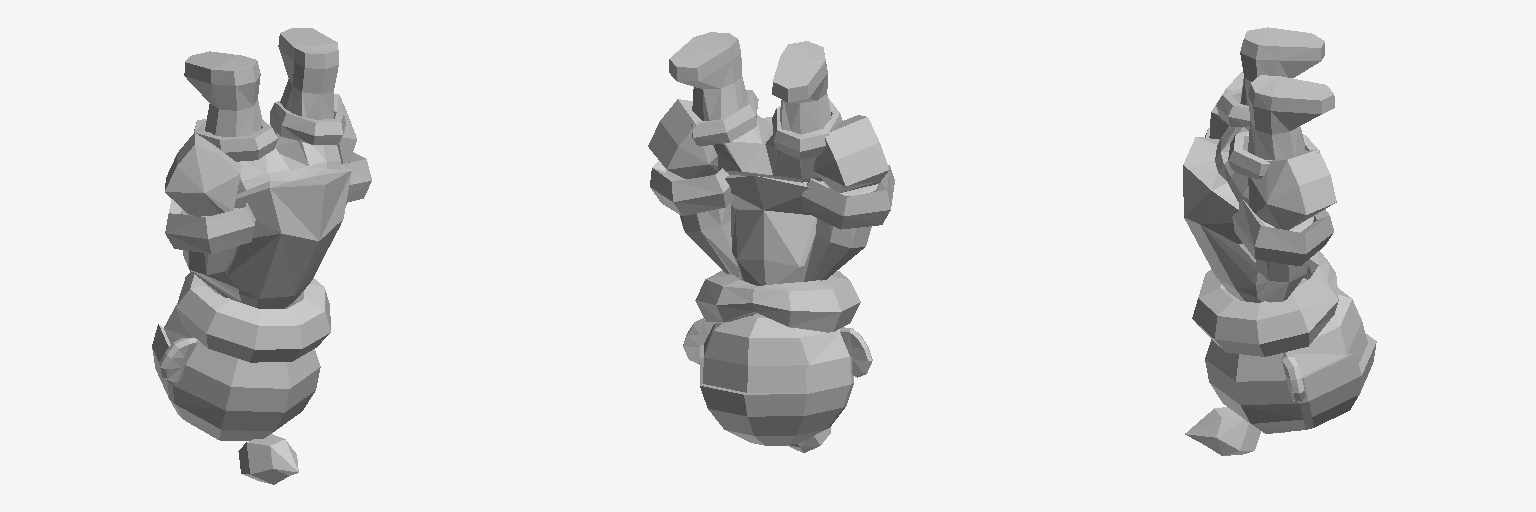
File: eikadebil_000030.obj
The picture shows the model from 3 angles: view 1: azimuth 30°, elevation 25°; view 2: azimuth 150°, elevation 25°; view 3: azimuth 270°, elevation 25°; orthographic projection.
Visible parts, largest first — view 1: Cylinder; view 2: Cylinder; view 3: Cylinder.
Part boxes in pixels (bbox=[...]): Cylinder: bbox=[152, 28, 371, 484]; Cylinder: bbox=[648, 32, 894, 452]; Cylinder: bbox=[1183, 27, 1376, 455].
Bounding box in the file's own units: 29.44 × 54.45 × 23.08.